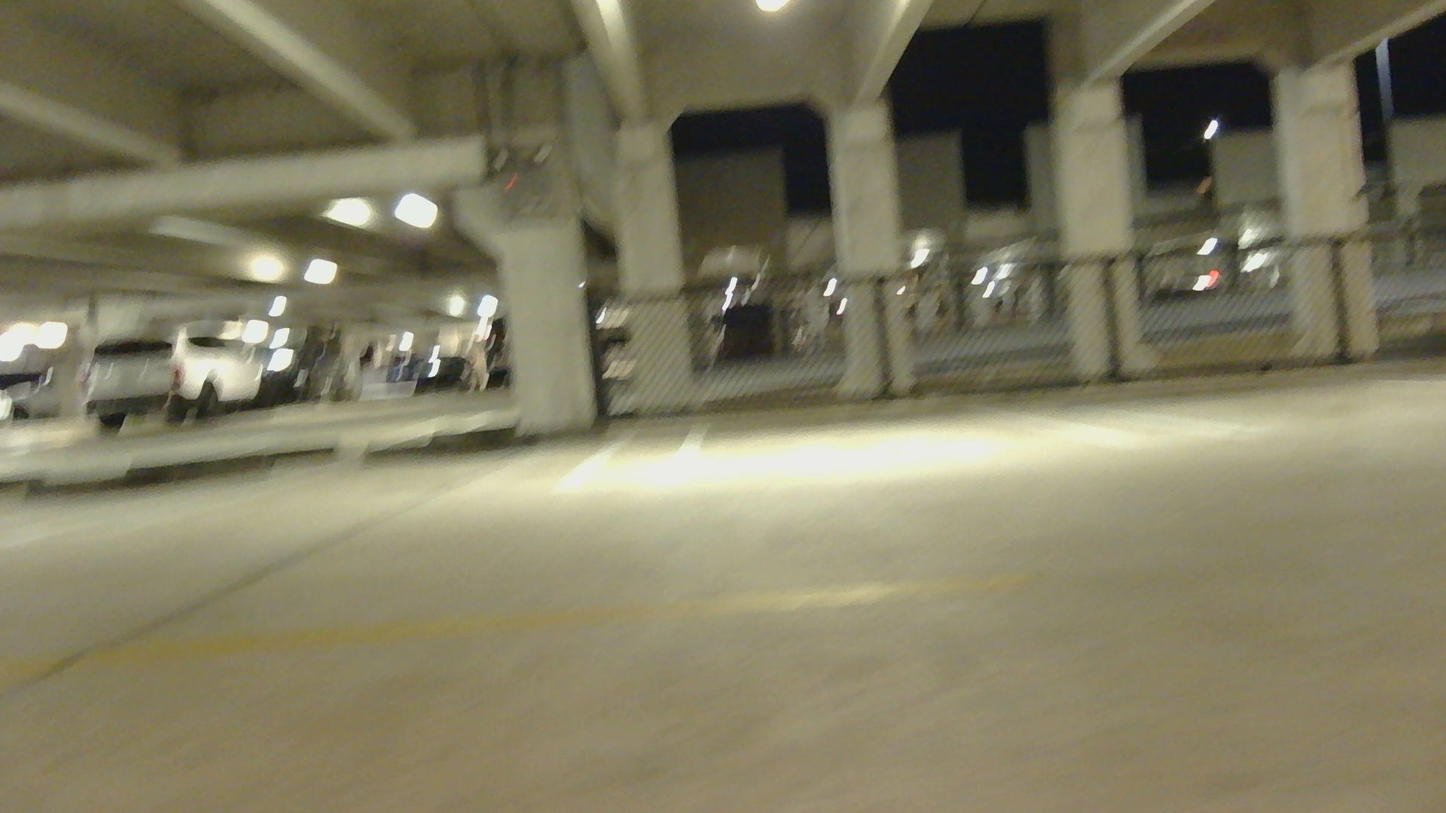empty_spot: (675, 324, 1130, 488), (104, 416, 622, 543), (1069, 279, 1441, 433)
